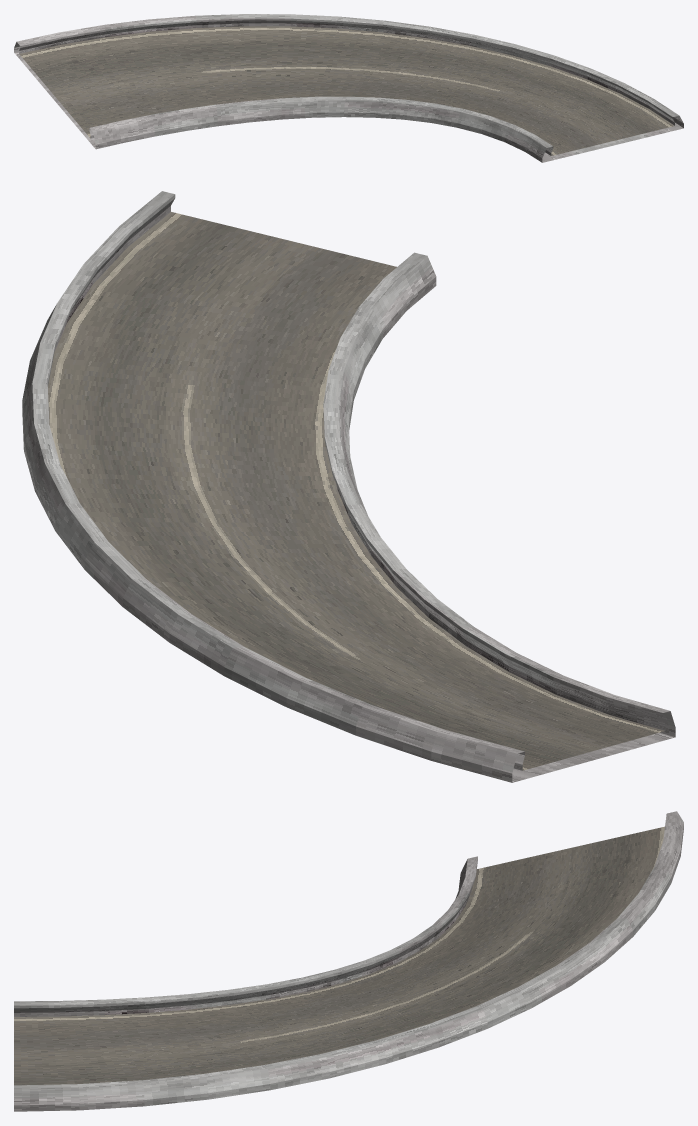
File: road-Turn-Flat-HalfBankedLeft-Down1-Left-Size3.glb
The picture shows the model from 3 angles, top to bottom: view 1: azimuth 30°, elevation 25°; view 2: azimuth 150°, elevation 25°; view 3: azimuth 270°, elevation 25°; orthographic projection. The views are drawn at different scales.
Parts seen in each view (by area): view 1: road-Turn-Flat-HalfBankedLeft-Down1-Left-Size3; view 2: road-Turn-Flat-HalfBankedLeft-Down1-Left-Size3; view 3: road-Turn-Flat-HalfBankedLeft-Down1-Left-Size3.
Part boxes in pixels (bbox=[...]): road-Turn-Flat-HalfBankedLeft-Down1-Left-Size3: bbox=[14, 14, 683, 162]; road-Turn-Flat-HalfBankedLeft-Down1-Left-Size3: bbox=[22, 191, 675, 782]; road-Turn-Flat-HalfBankedLeft-Down1-Left-Size3: bbox=[14, 811, 683, 1111].
Size of the model in its own units: 3 by 0.3438 by 3.
Materials: 2 (2 with a texture image).
